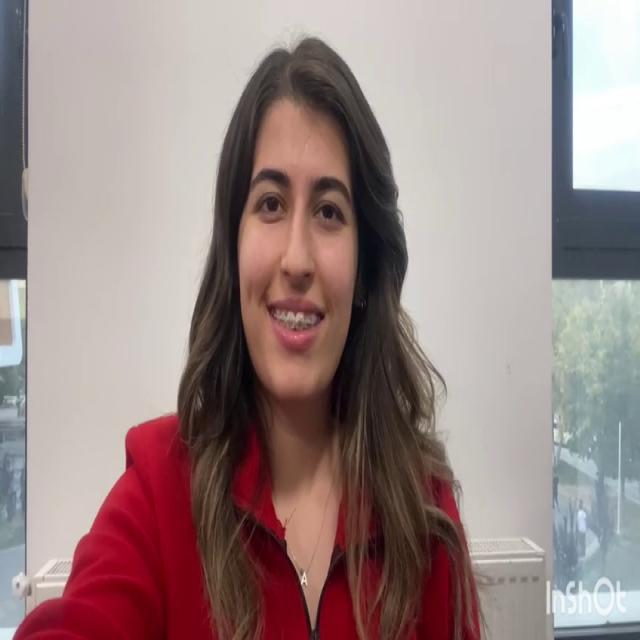happy: (236, 96, 361, 400)
